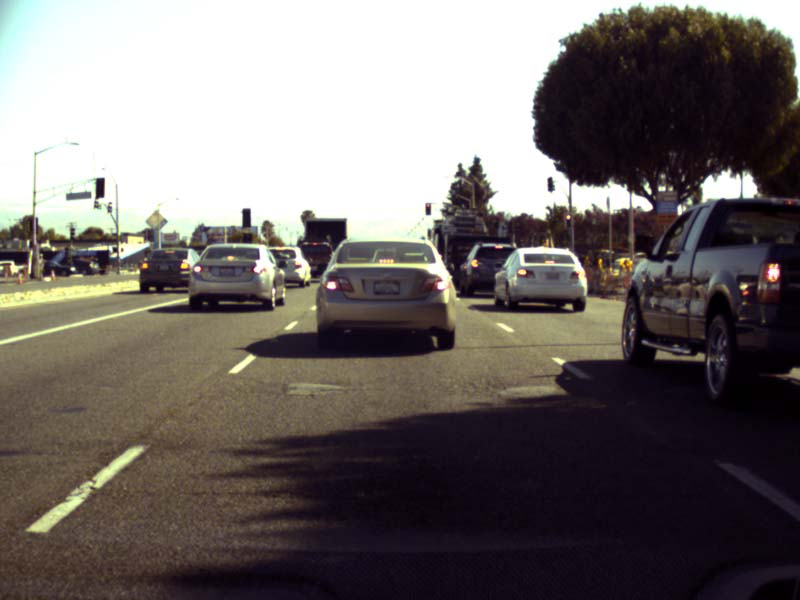Red: (425, 201, 431, 215), (565, 214, 570, 226)
